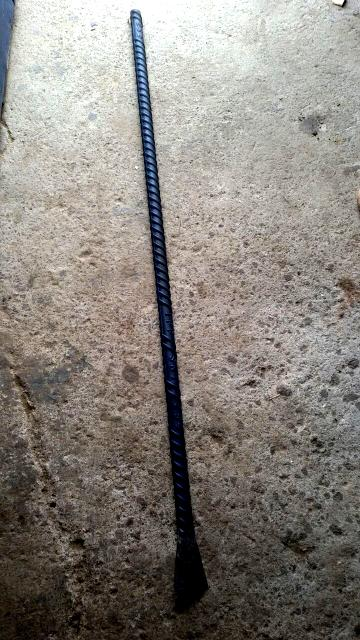crow bar: (106, 10, 226, 608)
